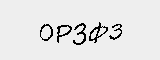З: (73, 20, 88, 48), (108, 22, 125, 42)
О: (35, 22, 54, 44)
Р: (54, 22, 71, 46)
Ф: (88, 19, 107, 49)
